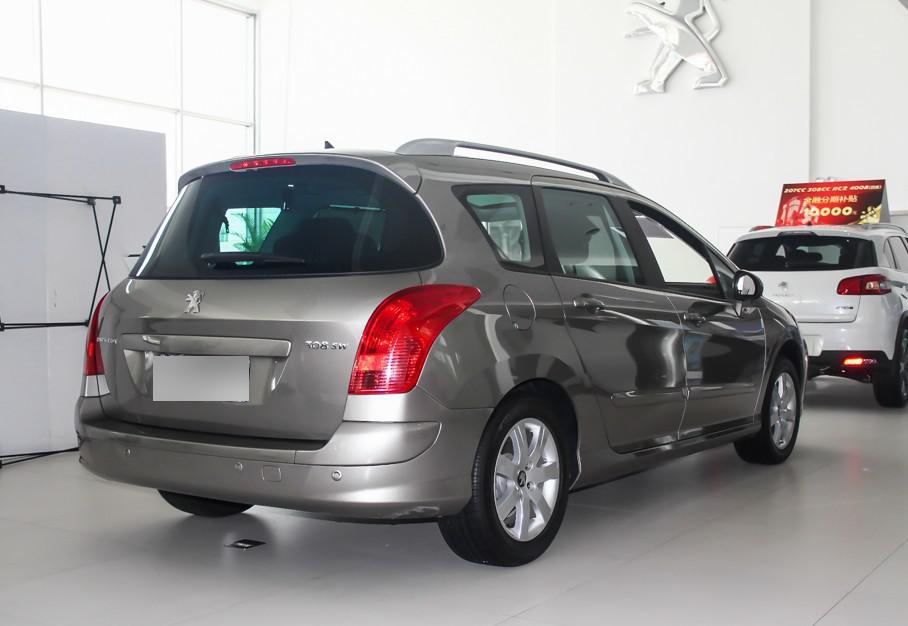Wagon: (73, 136, 810, 566)
